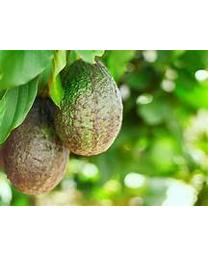avocado: (2, 90, 70, 195), (50, 59, 123, 156)
